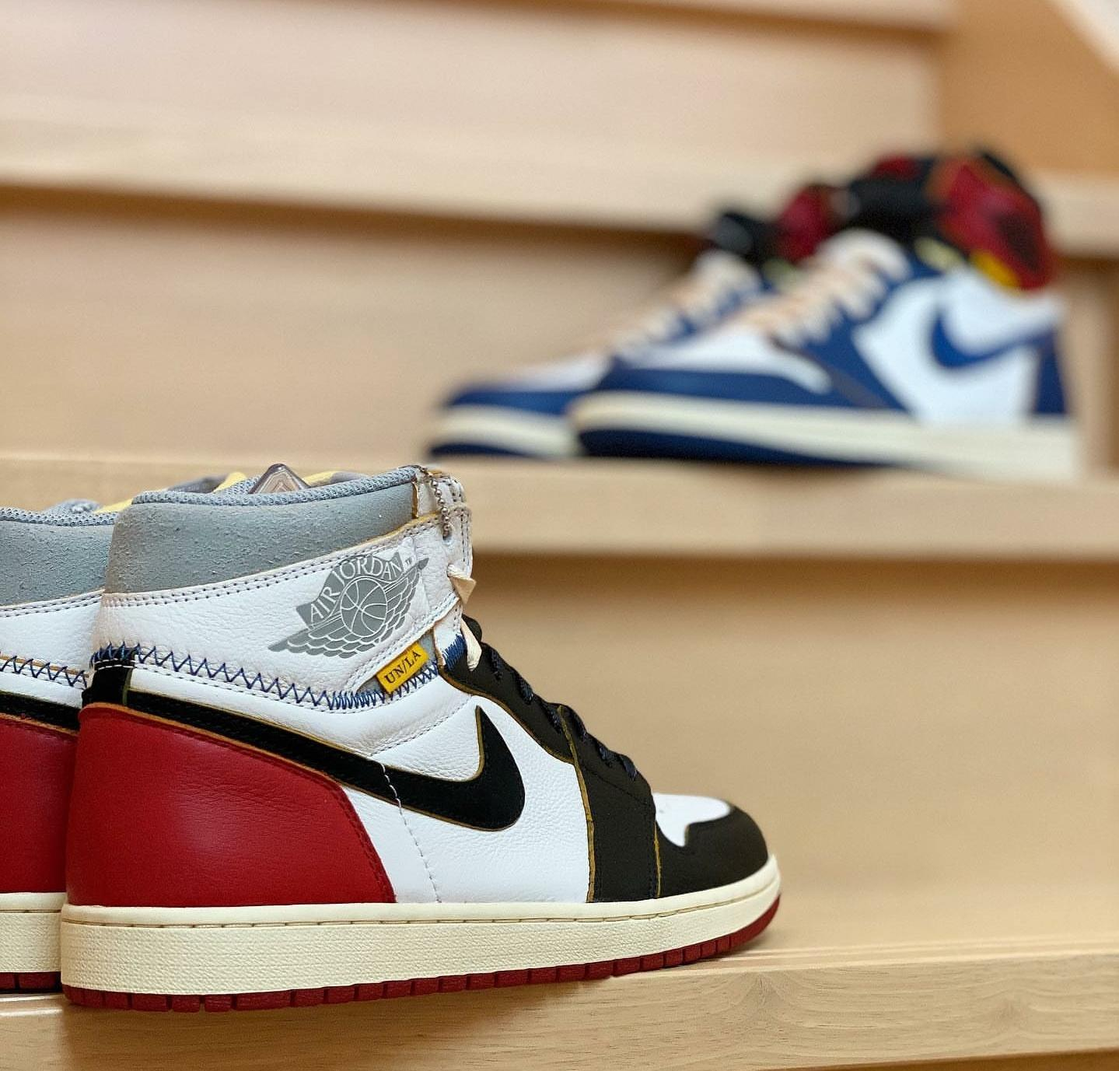sneaker: (84, 482, 811, 1024), (422, 131, 1090, 481)
